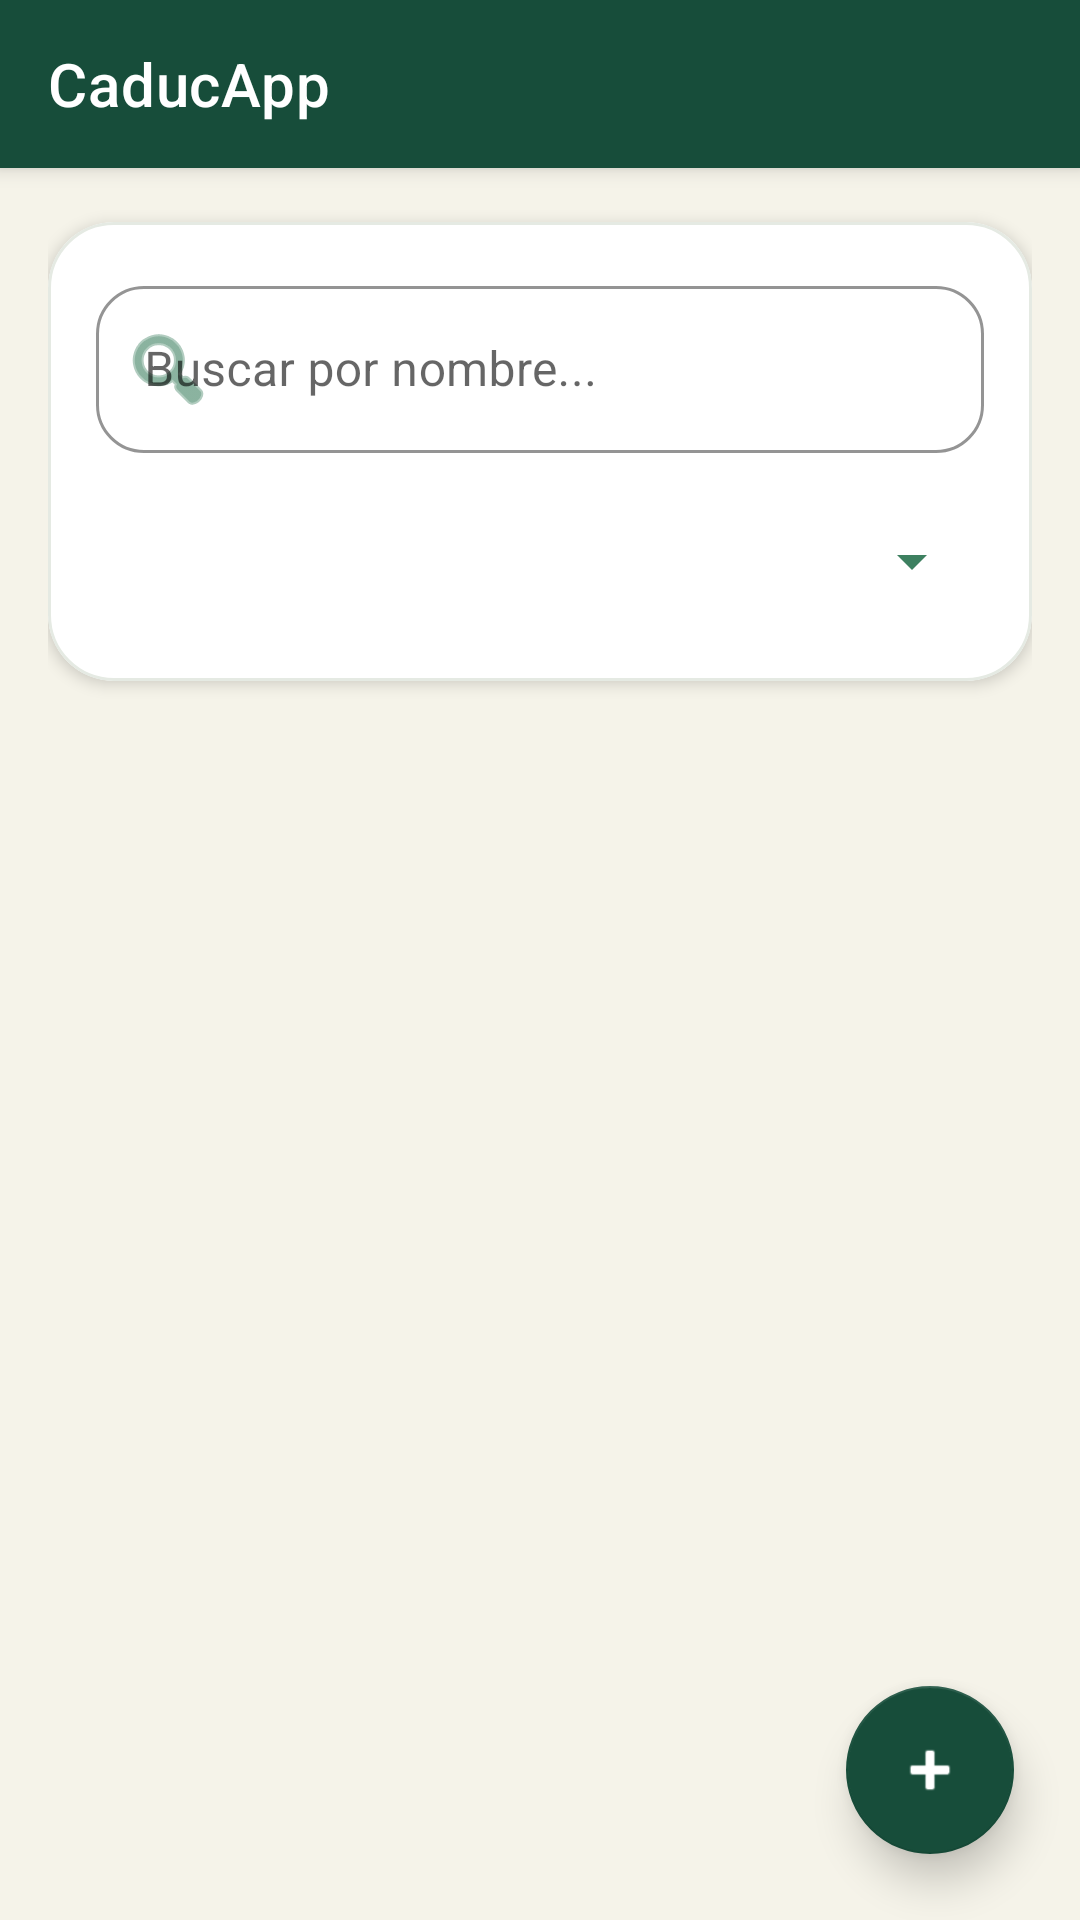

Named icons in this screenshot (1080x1920) and their centers, (x,y):
Añadir alimento: (930,1770)
